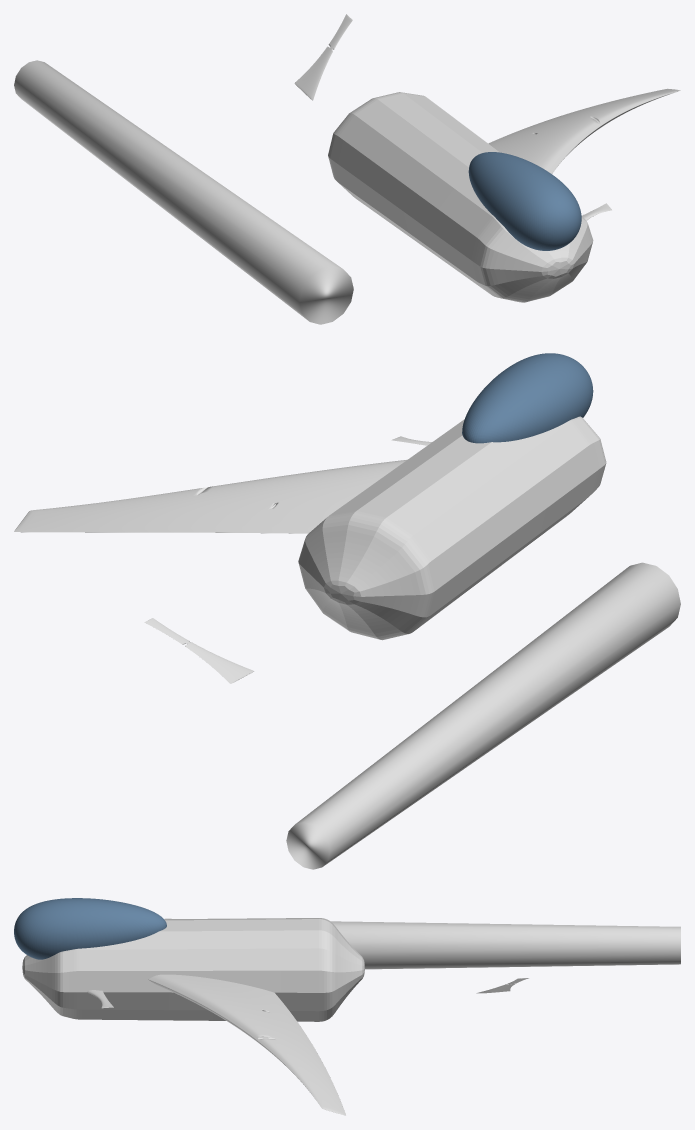
The picture shows the model from 3 angles, top to bottom: view 1: azimuth 30°, elevation 25°; view 2: azimuth 150°, elevation 25°; view 3: azimuth 270°, elevation 25°; orthographic projection. The views are drawn at different scales.
Parts seen in each view (by area): view 1: assembly_01_Body, assembly_06_EnginePod0, assembly_05_Canopy, assembly_02_WingMain, assembly_04_Tail; view 2: assembly_01_Body, assembly_06_EnginePod0, assembly_02_WingMain, assembly_05_Canopy, assembly_04_Tail; view 3: assembly_01_Body, assembly_06_EnginePod0, assembly_02_WingMain, assembly_05_Canopy.
Boxes of the visible parts, x1,y1,x2,y2 form: assembly_01_Body: (328,92,593,302); assembly_06_EnginePod0: (14,60,353,324); assembly_05_Canopy: (468,152,581,250); assembly_02_WingMain: (488,88,680,173); assembly_04_Tail: (294,14,352,100); assembly_01_Body: (298,416,606,640); assembly_06_EnginePod0: (286,562,680,869); assembly_02_WingMain: (14,459,407,533); assembly_05_Canopy: (462,353,593,443); assembly_04_Tail: (144,618,253,683); assembly_01_Body: (22,918,364,1021); assembly_06_EnginePod0: (165,918,680,969); assembly_02_WingMain: (148,974,345,1115); assembly_05_Canopy: (14,898,166,959).
Size of the model in its own units: 4.39 by 1.35 by 6.12.
